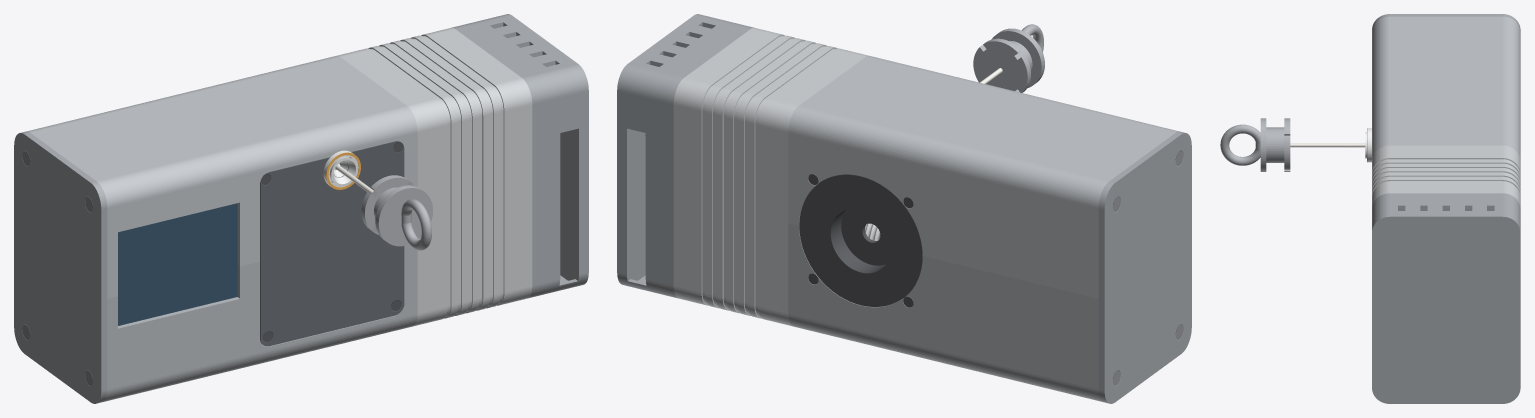
Rendered from voltra-i-ref.glb.
3 renders of one model, left to right at view 1: azimuth 30°, elevation 25°; view 2: azimuth 150°, elevation 25°; view 3: azimuth 270°, elevation 25°, orthographic. The views are drawn at different scales.
Visible parts, largest first — view 1: HSG-MAIN-01-UPR, MOT-HSG-01, EXIT-BASE-01, HSG-END-L-01, HSG-END-R-01, HSG-MAIN-01-LWR, LCD-01, CONN-01, EXIT-GUIDE-01; view 2: HSG-MAIN-01-UPR, MOT-HSG-01, HSG-MAIN-01-LWR, HSG-END-L-01, HSG-END-R-01, DOCK-IF-01, CONN-01; view 3: HSG-END-R-01, HSG-MAIN-01-UPR, MOT-HSG-01, CONN-01, HSG-END-L-01, CABLE-01.
Part boxes in pixels (box(x1,y1,x2,y2)): HSG-MAIN-01-UPR: box(26, 56, 417, 298); MOT-HSG-01: box(337, 28, 532, 326); EXIT-BASE-01: box(260, 141, 403, 346); HSG-END-L-01: box(14, 131, 107, 403); HSG-END-R-01: box(451, 14, 588, 298); HSG-MAIN-01-LWR: box(103, 244, 417, 401); LCD-01: box(118, 203, 237, 325); CONN-01: box(361, 175, 432, 250); EXIT-GUIDE-01: box(329, 156, 358, 186); HSG-MAIN-01-UPR: box(788, 56, 1179, 298); MOT-HSG-01: box(673, 28, 868, 326); HSG-MAIN-01-LWR: box(788, 223, 1102, 401); HSG-END-L-01: box(1098, 131, 1191, 403); HSG-END-R-01: box(617, 14, 754, 298); DOCK-IF-01: box(799, 174, 922, 306); CONN-01: box(973, 24, 1044, 92); HSG-END-R-01: box(1372, 193, 1520, 403); HSG-MAIN-01-UPR: box(1372, 16, 1520, 159); MOT-HSG-01: box(1372, 145, 1520, 207); CONN-01: box(1220, 118, 1290, 171); HSG-END-L-01: box(1372, 14, 1520, 30); CABLE-01: box(1290, 143, 1365, 147).
Size of the model in its own units: 323 by 139 by 202.
